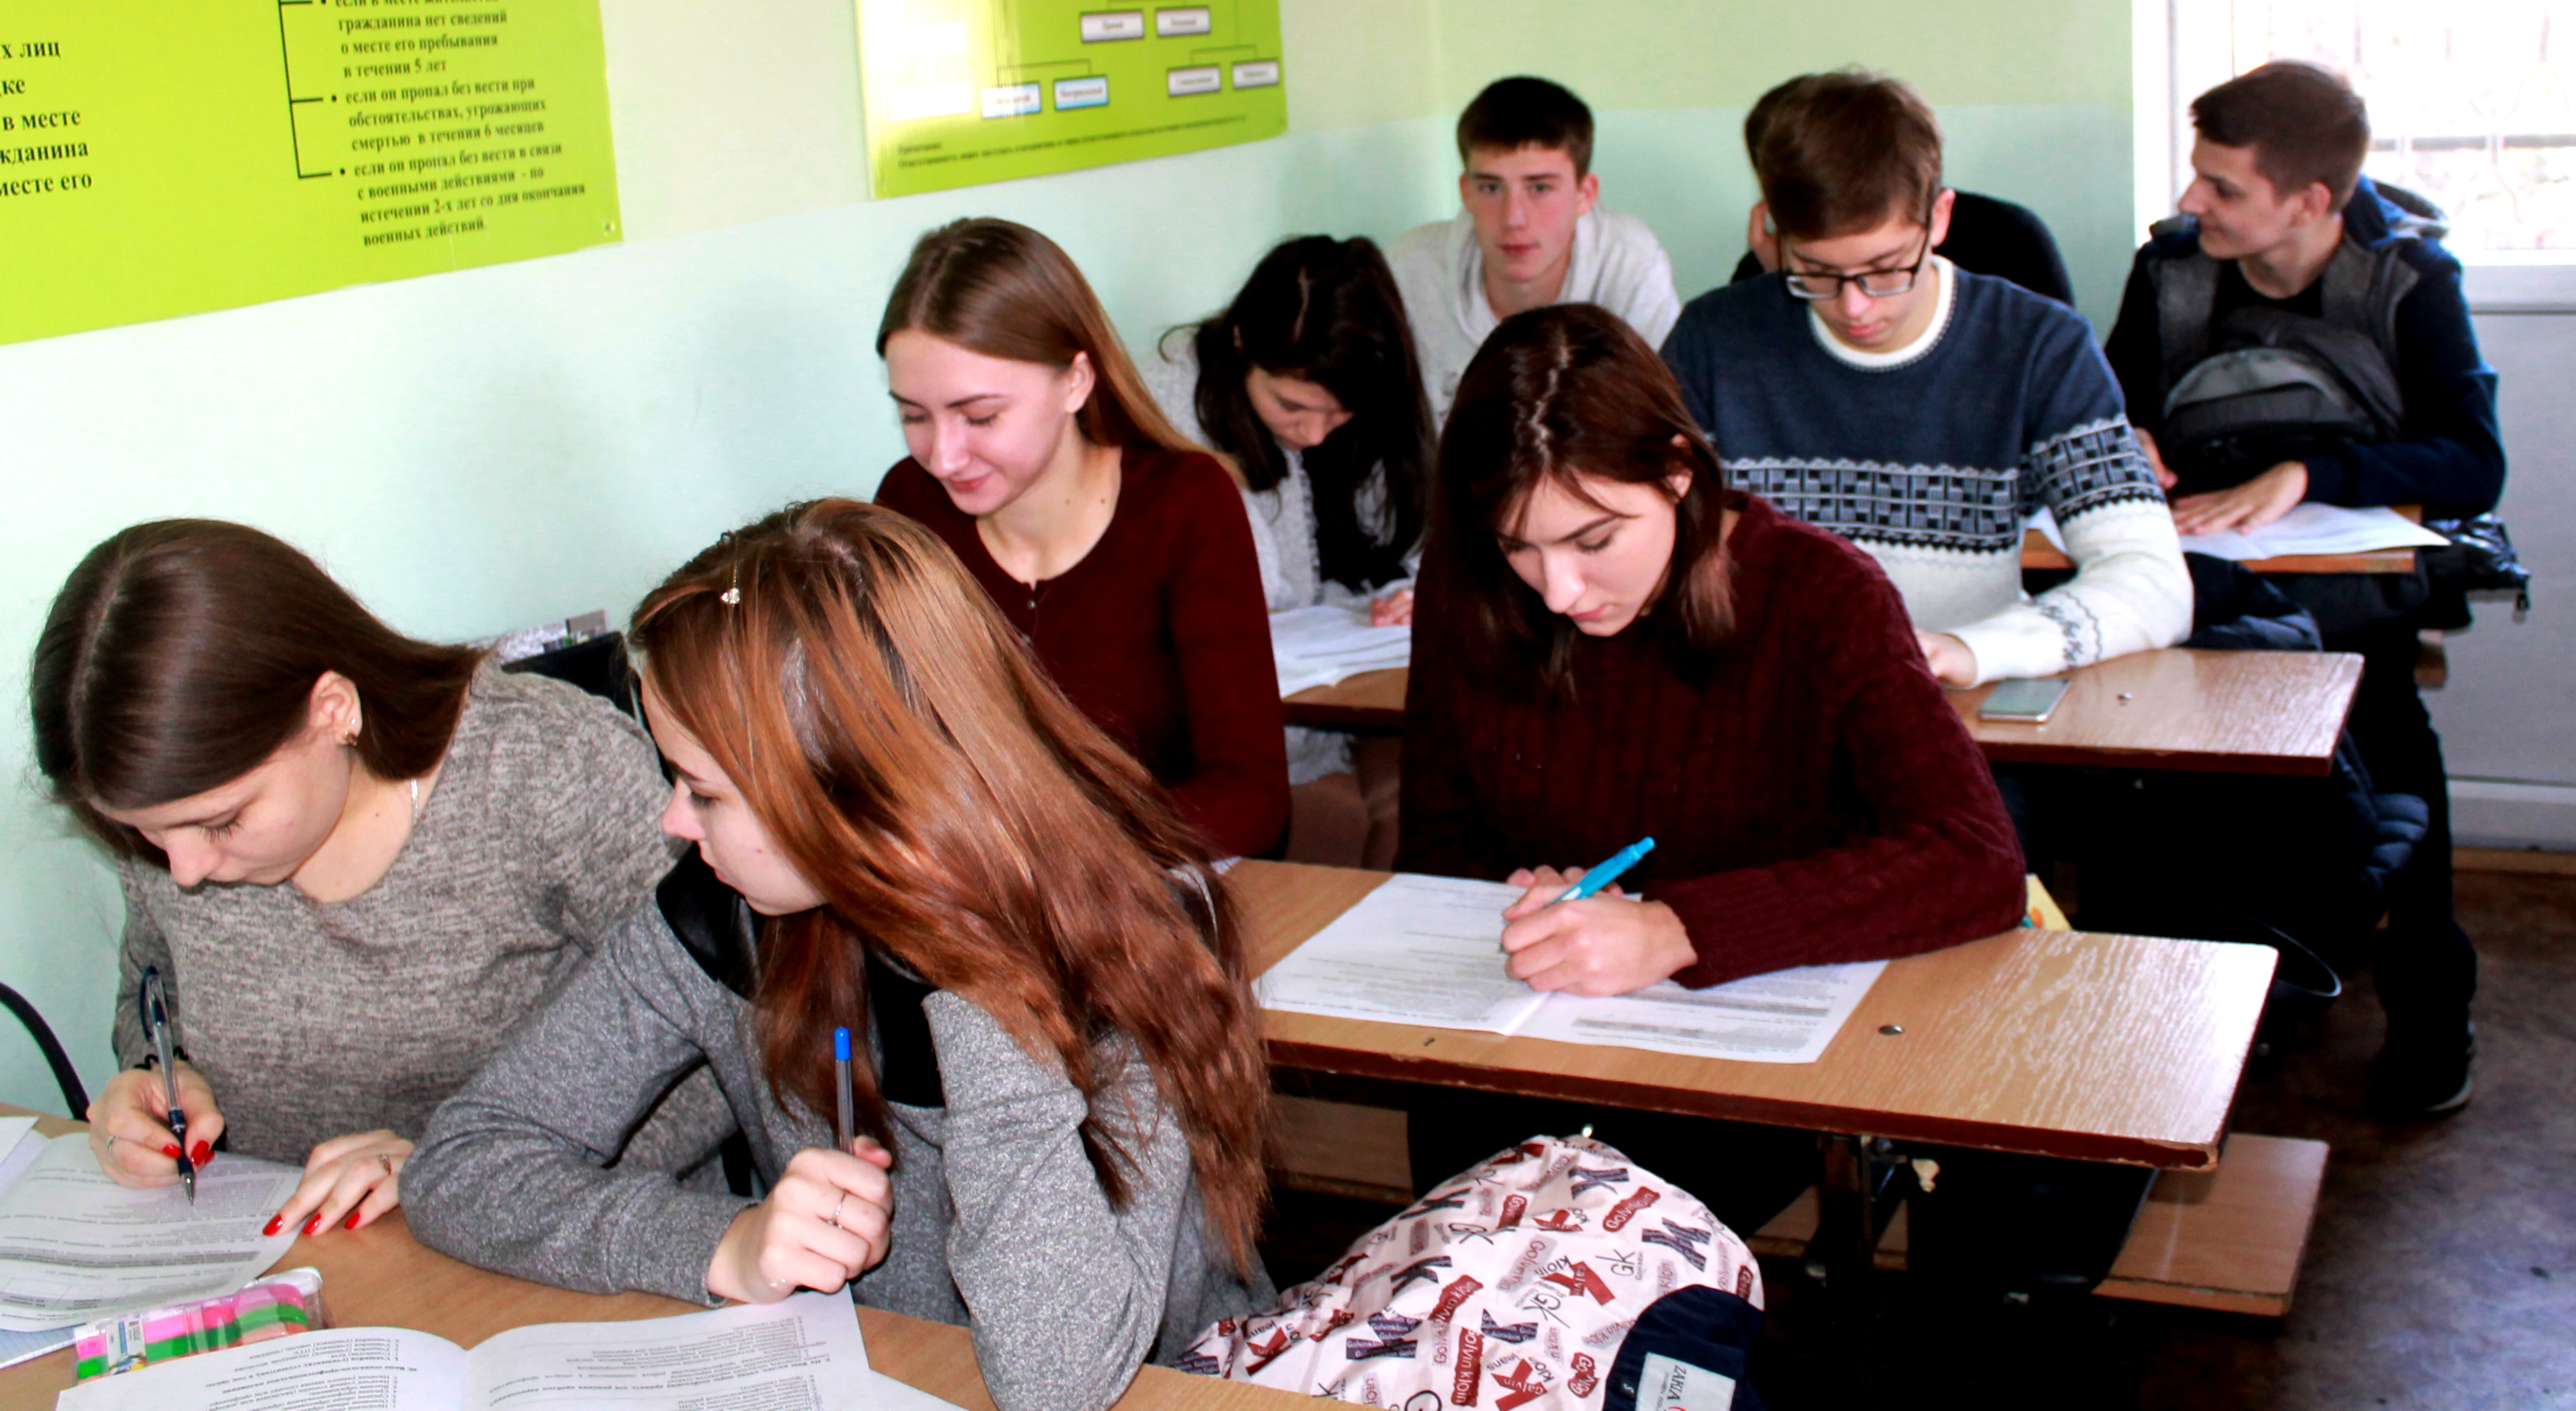students: (402, 496, 1271, 1405), (32, 517, 651, 1239), (2101, 57, 2522, 1112), (1396, 298, 2028, 1000), (1661, 67, 2197, 693), (870, 217, 1296, 860), (1356, 70, 1703, 385), (1152, 227, 1415, 619)
